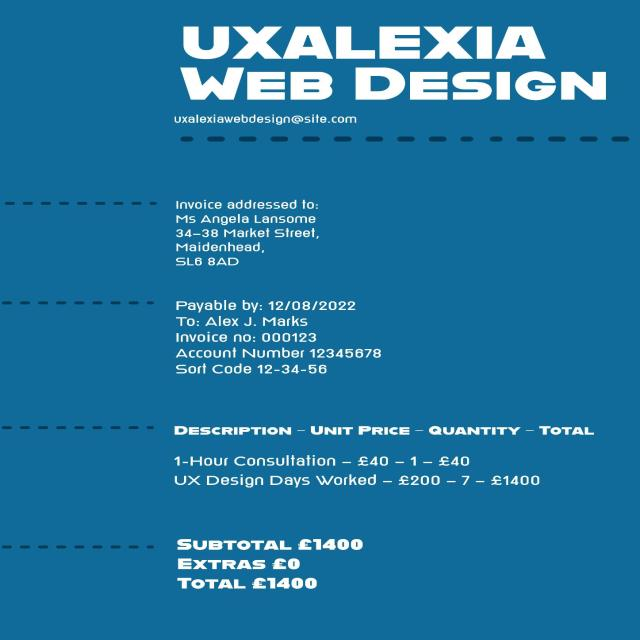paragraph: (153, 9, 620, 111), (157, 419, 598, 495), (165, 296, 390, 383), (168, 534, 381, 596), (163, 191, 332, 268), (156, 111, 391, 128)
